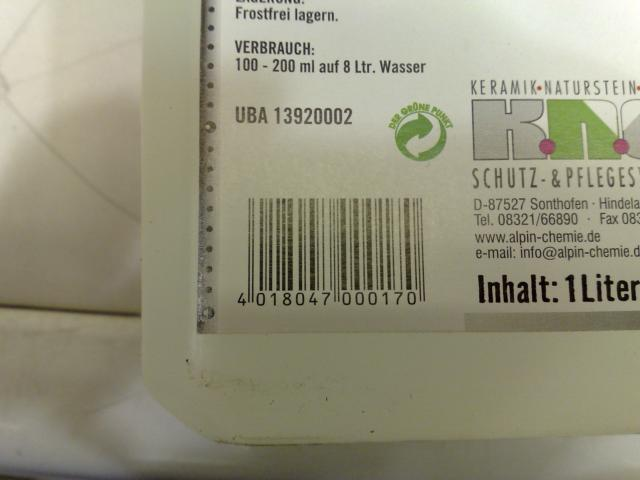Barcode: (228, 195, 428, 317)
